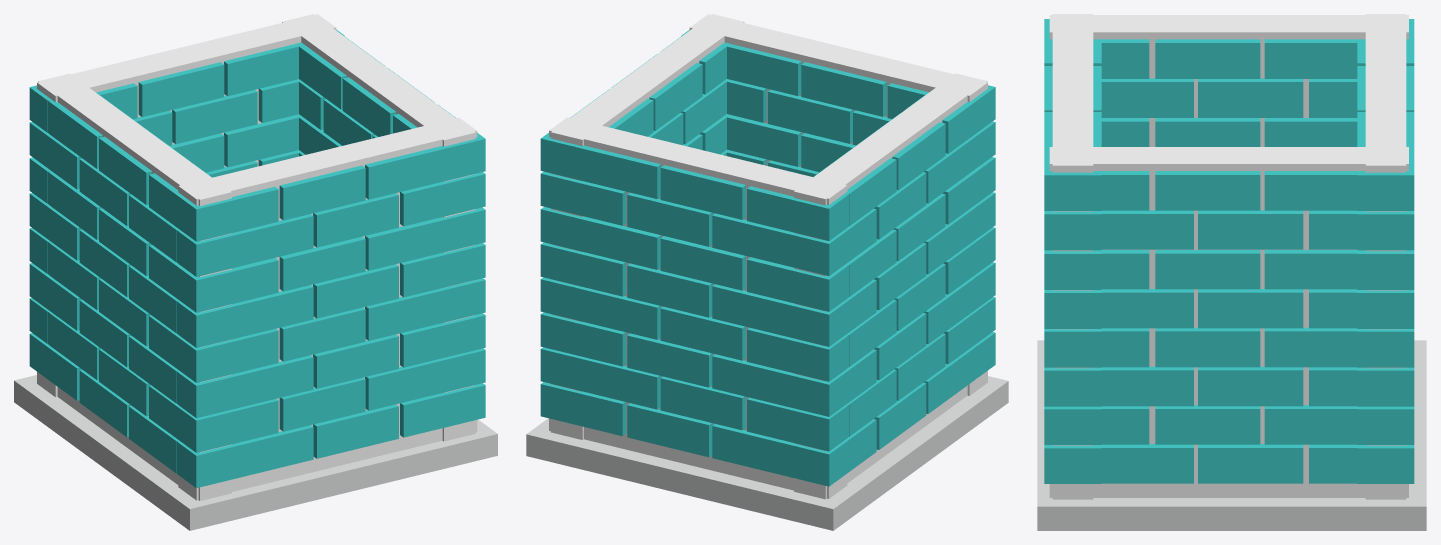
The picture shows the model from 3 angles, left to right: view 1: azimuth 30°, elevation 25°; view 2: azimuth 150°, elevation 25°; view 3: azimuth 270°, elevation 25°; orthographic projection. The views are drawn at different scales.
Visible parts, largest first — view 1: zemin7; view 2: zemin7; view 3: zemin7.
Part boxes in pixels (x1,y1,x2,y2): zemin7: [14, 14, 497, 530]; zemin7: [526, 14, 1008, 530]; zemin7: [1037, 14, 1426, 530].
Bounding box in the file's own units: 1703 × 1706 × 1683.
